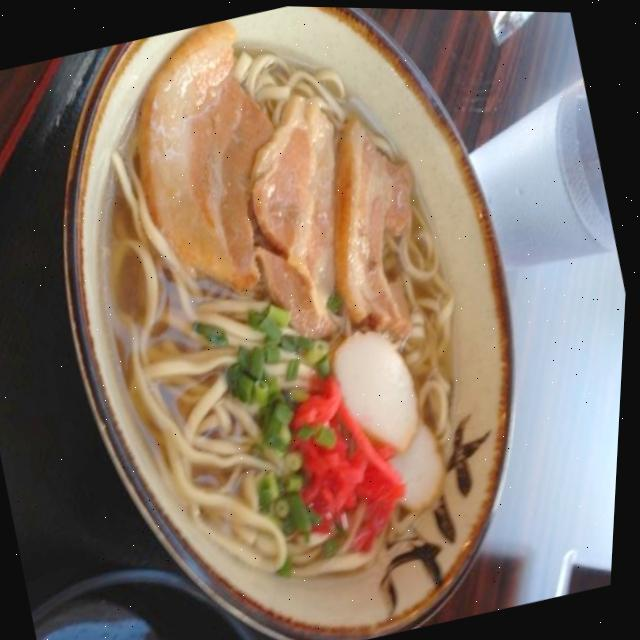熟制海鲜: (216, 4, 640, 633)
